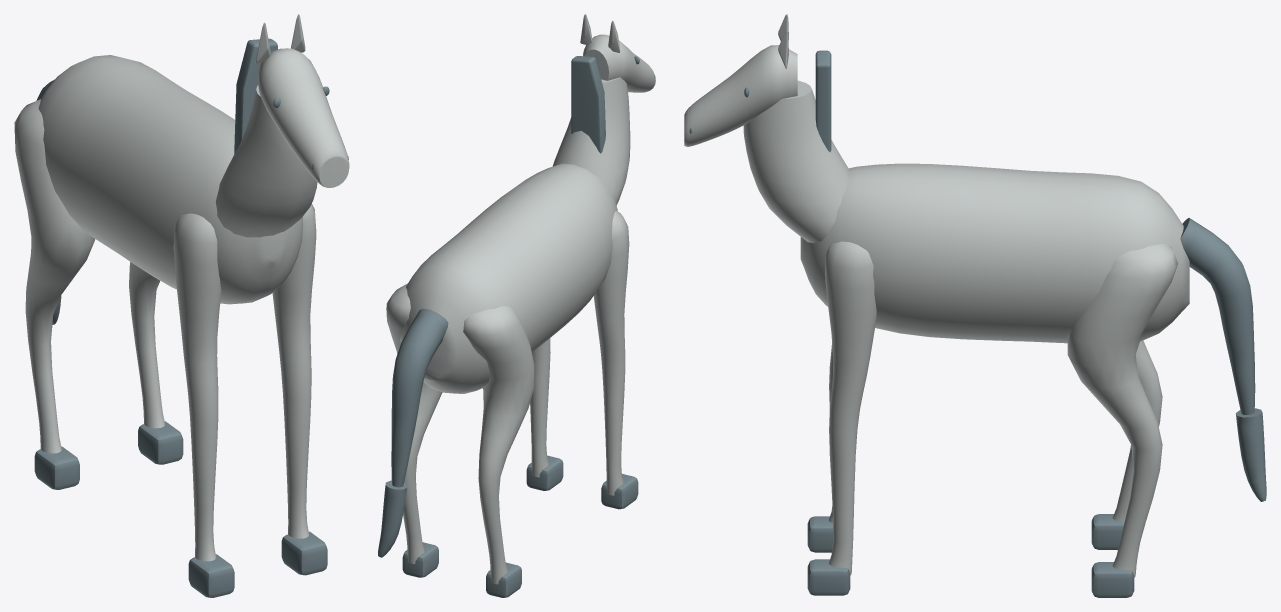
The model's file is horse.glb.
3 views of the same model, side by side, from view 1: azimuth 30°, elevation 25°; view 2: azimuth 150°, elevation 25°; view 3: azimuth 270°, elevation 25° (orthographic). The views are drawn at different scales.
Visible parts, largest first — view 1: barrel, hind_leg, foreleg, arched_neck, foreleg.001, long_head, hind_leg.001, mane, front_hoof, front_hoof.001, hind_hoof, hind_hoof.001; view 2: barrel, hind_leg, foreleg, tail, arched_neck, hind_leg.001, mane, long_head, foreleg.001, tail_tip, front_hoof.001, front_hoof (+2 smaller); view 3: barrel, hind_leg.001, foreleg.001, arched_neck, tail, long_head, tail_tip, hind_leg, mane, front_hoof.001, hind_hoof.001, hind_hoof (+1 smaller).
Part boxes in pixels (x1=…): barrel: x1=38, y1=55, x2=303, y2=304; hind_leg: x1=14, y1=99, x2=95, y2=453; foreleg: x1=173, y1=213, x2=221, y2=561; arched_neck: x1=215, y1=85, x2=317, y2=237; foreleg.001: x1=272, y1=204, x2=316, y2=538; long_head: x1=257, y1=48, x2=349, y2=187; hind_leg.001: x1=129, y1=262, x2=164, y2=428; mane: x1=234, y1=38, x2=277, y2=154; front_hoof: x1=188, y1=554, x2=234, y2=597; front_hoof.001: x1=281, y1=531, x2=327, y2=575; hind_hoof: x1=34, y1=446, x2=79, y2=489; hind_hoof.001: x1=138, y1=421, x2=183, y2=464; barrel: x1=400, y1=163, x2=617, y2=393; hind_leg: x1=463, y1=306, x2=534, y2=584; foreleg: x1=593, y1=211, x2=629, y2=495; tail: x1=391, y1=308, x2=448, y2=487; arched_neck: x1=552, y1=77, x2=630, y2=205; hind_leg.001: x1=386, y1=283, x2=442, y2=563; mane: x1=571, y1=56, x2=605, y2=153; long_head: x1=583, y1=34, x2=655, y2=92; foreleg.001: x1=530, y1=338, x2=550, y2=477; tail_tip: x1=378, y1=480, x2=407, y2=557; front_hoof.001: x1=526, y1=455, x2=563, y2=490; front_hoof: x1=601, y1=474, x2=638, y2=509; barrel: x1=800, y1=163, x2=1189, y2=343; hind_leg.001: x1=1067, y1=244, x2=1177, y2=577; foreleg.001: x1=824, y1=241, x2=876, y2=575; arched_neck: x1=743, y1=80, x2=849, y2=243; tail: x1=1180, y1=218, x2=1255, y2=414; long_head: x1=684, y1=45, x2=797, y2=146; tail_tip: x1=1235, y1=408, x2=1266, y2=501; hind_leg: x1=1112, y1=340, x2=1162, y2=522; mane: x1=815, y1=50, x2=831, y2=152; front_hoof.001: x1=807, y1=559, x2=850, y2=595; hind_hoof.001: x1=1091, y1=562, x2=1134, y2=597; hind_hoof: x1=1091, y1=514, x2=1124, y2=549.
Size of the model in its own units: 0.6226 by 2.13 by 2.05.
